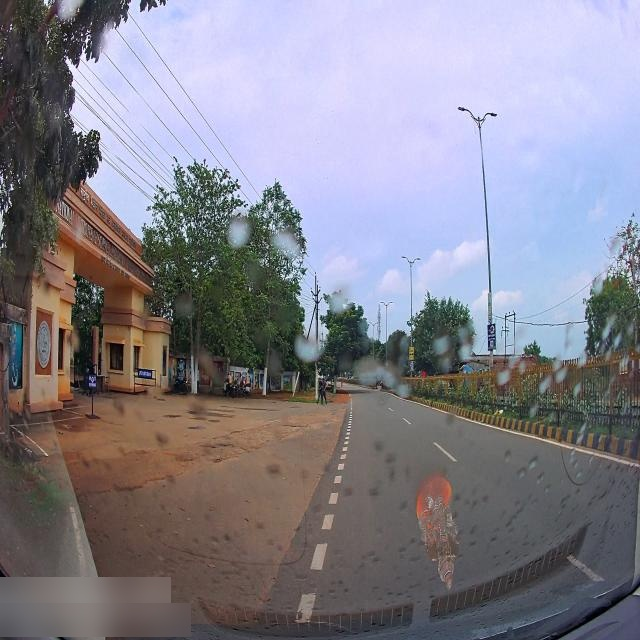pothole: (149, 415, 318, 453)
